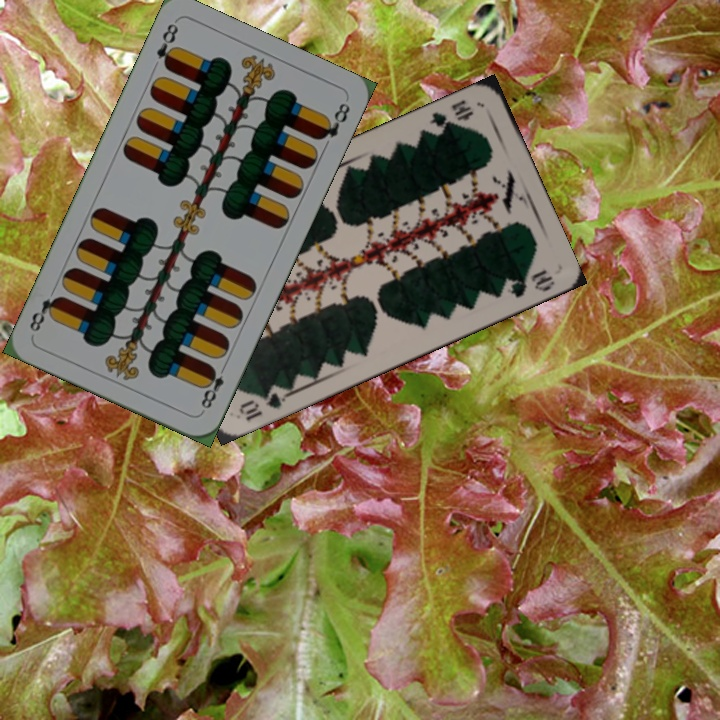E8: (197, 360, 229, 415), (152, 19, 181, 72)
G10: (235, 381, 291, 424), (426, 95, 477, 134)
